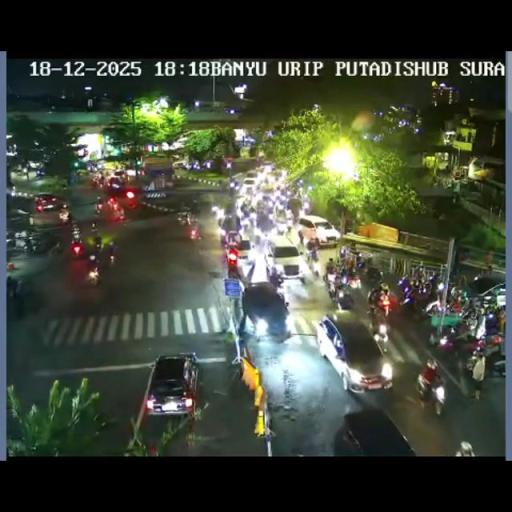Car: (317, 313, 393, 390), (334, 406, 418, 454), (144, 353, 200, 418), (240, 282, 290, 339), (268, 234, 305, 282), (296, 214, 339, 248), (28, 194, 70, 224), (101, 170, 137, 196), (218, 214, 244, 248), (266, 167, 288, 183), (70, 239, 86, 259), (241, 177, 258, 192), (259, 161, 275, 172), (172, 160, 188, 169)
Motorcycle: (416, 366, 446, 416), (400, 280, 438, 315), (458, 330, 491, 356), (468, 355, 486, 399), (484, 341, 505, 378), (429, 324, 457, 350), (370, 306, 390, 340), (368, 285, 386, 312), (460, 298, 478, 324), (335, 288, 354, 311), (306, 239, 320, 270), (484, 308, 500, 335), (226, 251, 240, 280), (324, 276, 339, 303), (85, 261, 101, 286), (344, 268, 362, 289), (364, 265, 382, 286), (6, 276, 20, 302), (448, 286, 466, 306), (255, 209, 270, 231), (428, 272, 442, 294), (6, 232, 22, 250), (106, 246, 118, 268), (262, 234, 274, 256), (188, 220, 201, 240), (211, 204, 225, 222), (24, 237, 38, 254), (70, 220, 81, 241), (51, 237, 64, 254), (176, 210, 190, 225), (90, 221, 100, 240), (325, 258, 335, 276), (240, 200, 250, 217), (339, 245, 349, 261), (252, 232, 262, 248), (94, 200, 104, 215), (115, 206, 125, 221), (228, 180, 236, 198), (356, 256, 366, 270), (94, 238, 102, 252), (286, 217, 294, 231), (98, 175, 104, 189), (92, 178, 98, 188)
